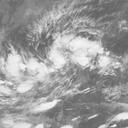cyclone: (32, 33, 85, 82)
